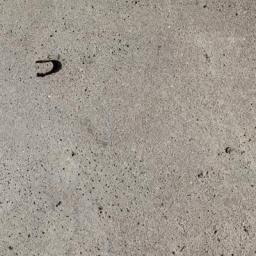FOD: (34, 57, 66, 82)
